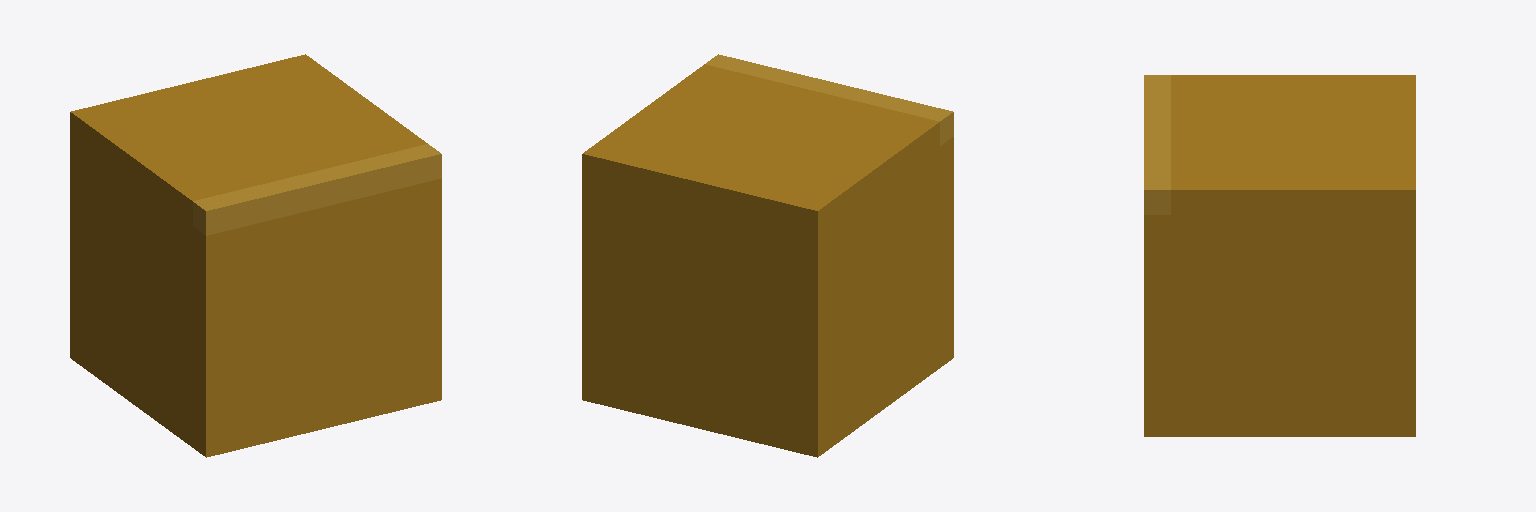
3 renders of one model, left to right at view 1: azimuth 30°, elevation 25°; view 2: azimuth 150°, elevation 25°; view 3: azimuth 270°, elevation 25°, orthographic.
Size of the model in its own units: 10 by 10 by 10.
1 materials, 1 textured.